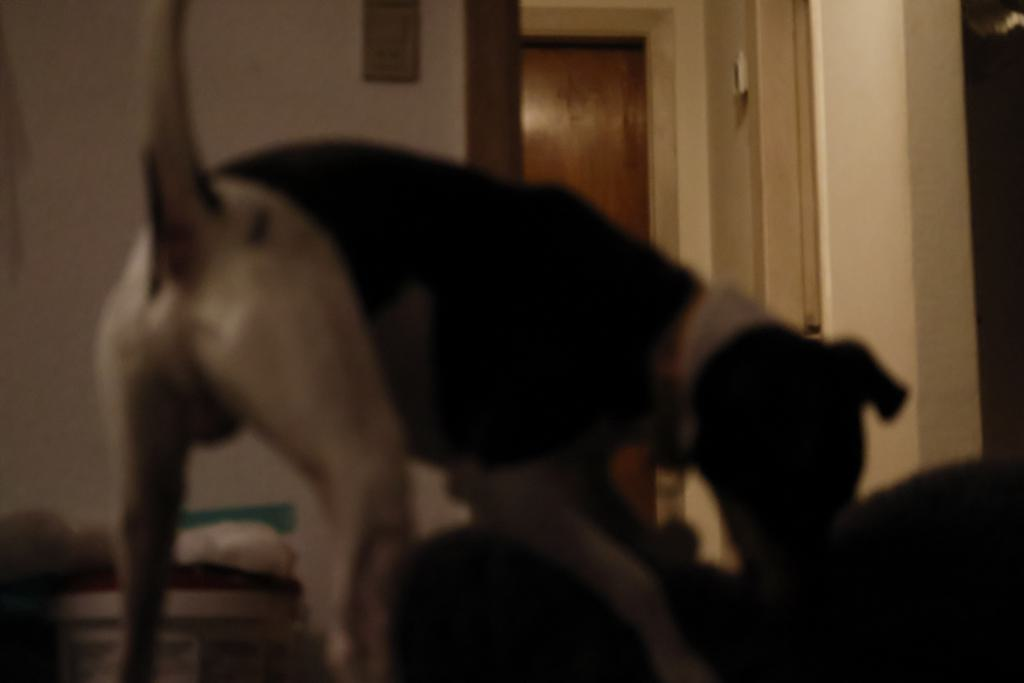Dog: (81, 0, 927, 683)
